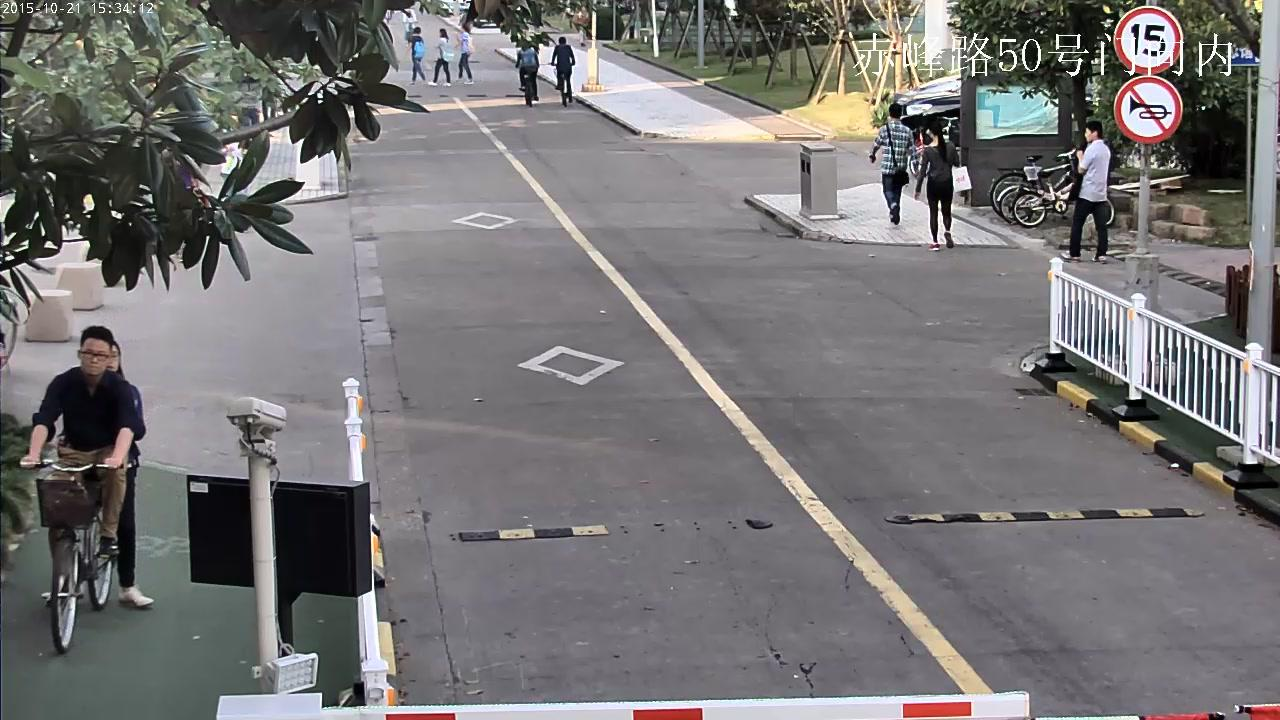face: (80, 337, 109, 374), (107, 344, 118, 371), (1085, 128, 1093, 142), (927, 128, 932, 138), (581, 6, 585, 10), (462, 28, 465, 32), (440, 32, 442, 36)
